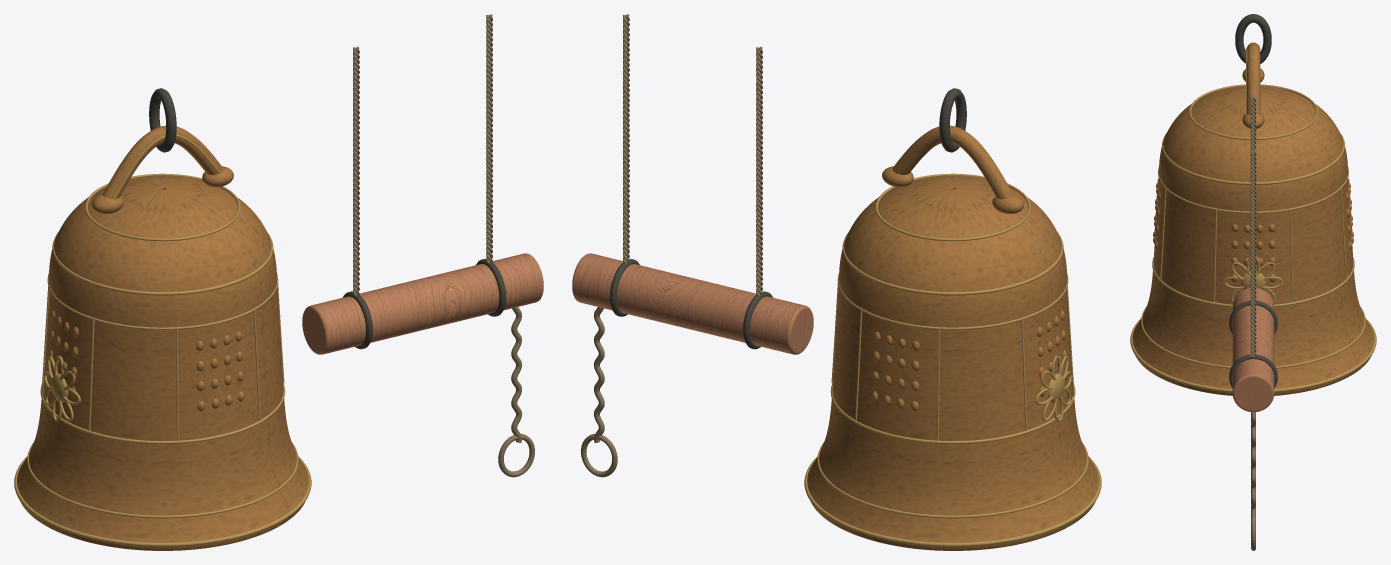
Rendered from temple-bell.glb.
3 renders of one model, left to right at view 1: azimuth 30°, elevation 25°; view 2: azimuth 150°, elevation 25°; view 3: azimuth 270°, elevation 25°, orthographic. The views are drawn at different scales.
Parts seen in each view (by area): view 1: Bell_Body | Temple bell | cast bronze, Bell_Hammer | Temple bell | timber striker, Bell_Body | Temple bell | polished raised lines, Bell_Rope_1 | Temple bell | braided hemp, Bell_Rope_0 | Temple bell | braided hemp, Bell_Hammer | Temple bell | braided hemp, Bell_Body | Temple bell | forged iron bindings, Bell_Hammer | Temple bell | forged iron bindings; view 2: Bell_Body | Temple bell | cast bronze, Bell_Hammer | Temple bell | timber striker, Bell_Body | Temple bell | polished raised lines, Bell_Rope_0 | Temple bell | braided hemp, Bell_Rope_1 | Temple bell | braided hemp, Bell_Hammer | Temple bell | braided hemp, Bell_Body | Temple bell | forged iron bindings, Bell_Hammer | Temple bell | forged iron bindings; view 3: Bell_Body | Temple bell | cast bronze, Bell_Body | Temple bell | polished raised lines, Bell_Hammer | Temple bell | timber striker, Bell_Rope_1 | Temple bell | braided hemp, Bell_Body | Temple bell | forged iron bindings, Bell_Hammer | Temple bell | forged iron bindings, Bell_Hammer | Temple bell | braided hemp, Bell_Rope_0 | Temple bell | braided hemp.
Boxes of the visible parts, box(x1,y1,x2,y2) form: Bell_Body | Temple bell | cast bronze: box(17, 125, 308, 550); Bell_Hammer | Temple bell | timber striker: box(302, 253, 543, 354); Bell_Body | Temple bell | polished raised lines: box(14, 134, 311, 546); Bell_Rope_1 | Temple bell | braided hemp: box(486, 14, 492, 263); Bell_Rope_0 | Temple bell | braided hemp: box(353, 46, 359, 295); Bell_Hammer | Temple bell | braided hemp: box(498, 307, 534, 477); Bell_Body | Temple bell | forged iron bindings: box(149, 88, 176, 152); Bell_Hammer | Temple bell | forged iron bindings: box(343, 259, 506, 349); Bell_Body | Temple bell | cast bronze: box(807, 125, 1098, 550); Bell_Hammer | Temple bell | timber striker: box(572, 253, 813, 354); Bell_Body | Temple bell | polished raised lines: box(804, 173, 1101, 546); Bell_Rope_0 | Temple bell | braided hemp: box(756, 46, 762, 295); Bell_Rope_1 | Temple bell | braided hemp: box(622, 14, 629, 263); Bell_Hammer | Temple bell | braided hemp: box(581, 307, 617, 477); Bell_Body | Temple bell | forged iron bindings: box(939, 88, 966, 152); Bell_Hammer | Temple bell | forged iron bindings: box(609, 259, 772, 349); Bell_Body | Temple bell | cast bronze: box(1132, 42, 1374, 395); Bell_Body | Temple bell | polished raised lines: box(1130, 47, 1376, 392); Bell_Hammer | Temple bell | timber striker: box(1232, 288, 1274, 412); Bell_Rope_1 | Temple bell | braided hemp: box(1250, 150, 1256, 357); Bell_Body | Temple bell | forged iron bindings: box(1235, 14, 1271, 63); Bell_Hammer | Temple bell | forged iron bindings: box(1229, 300, 1277, 387); Bell_Hammer | Temple bell | braided hemp: box(1251, 412, 1255, 550); Bell_Rope_0 | Temple bell | braided hemp: box(1250, 96, 1256, 298).
Size of the model in its own units: 2.41 by 2.17 by 1.24.
Materials: 5 (2 with a texture image).
